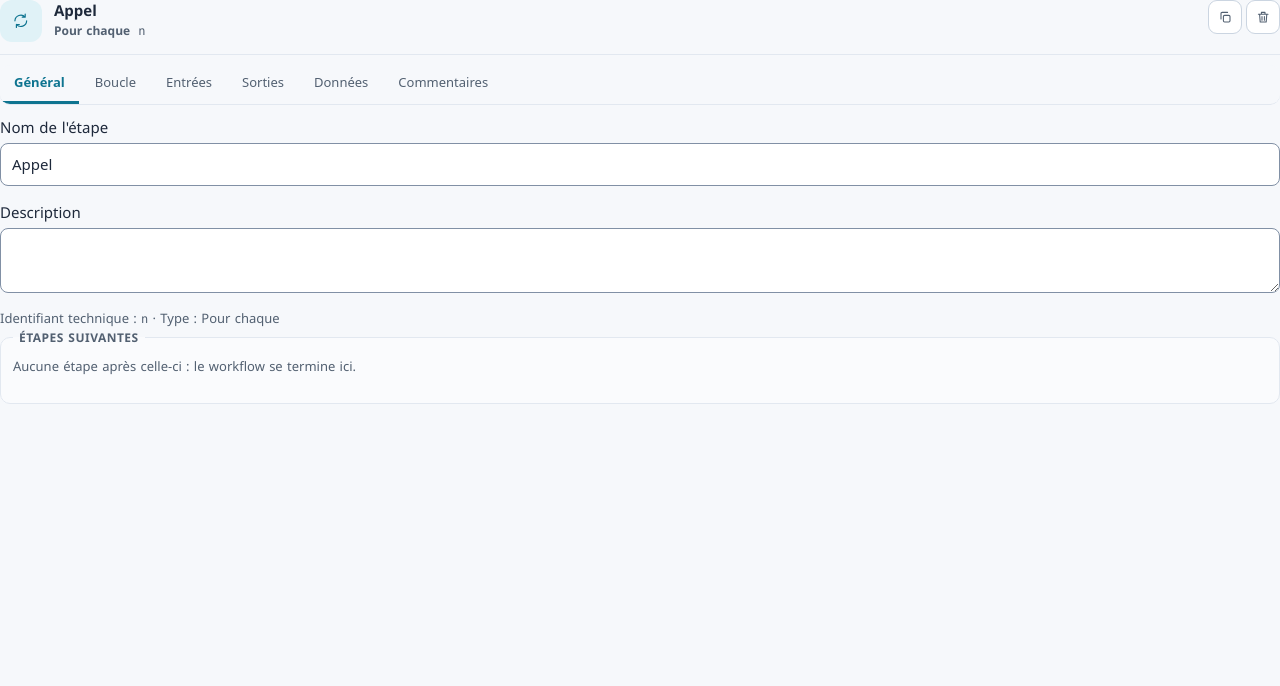
Test: version du workflow appelé — étape foreach › une version épinglée absente du catalogue est montrée telle quelle, avec une alerte
Click the tab "Boucle": (115, 84) [81, 65, 150, 104]
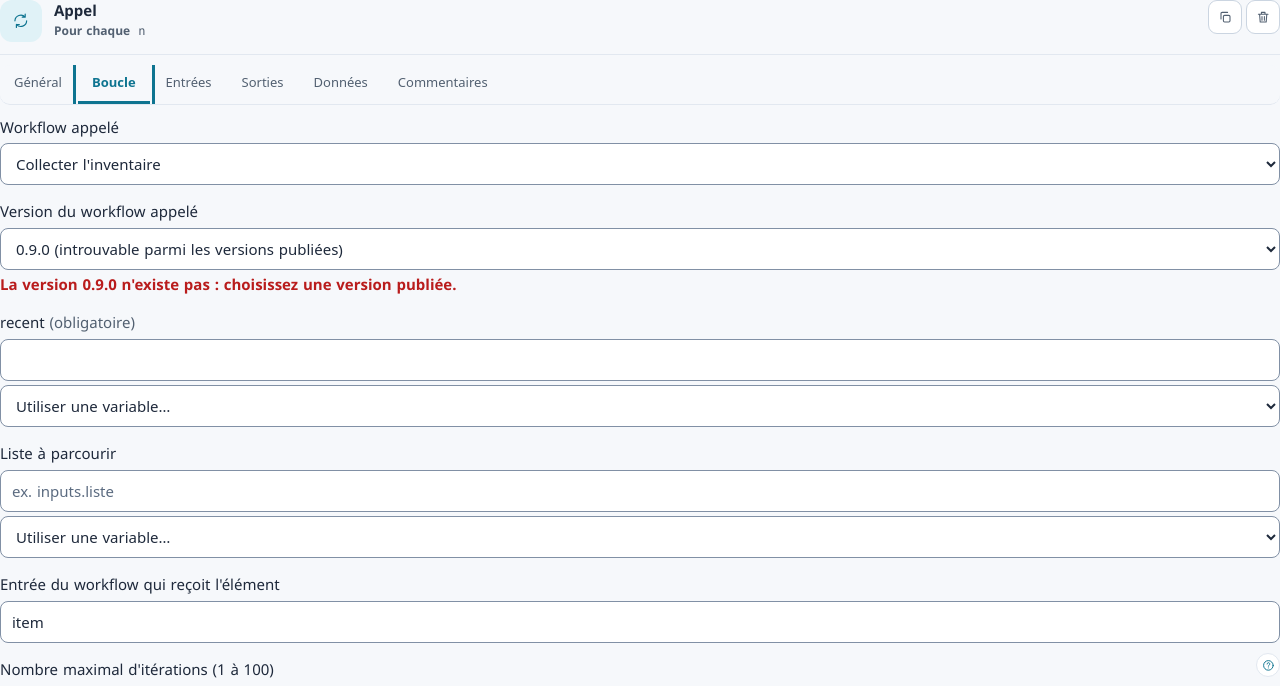
Check: the dropdown labelled "Version du workflow appelé" shows "0.9.0 (introuvable parmi les versions publiées)", box [0, 228, 1279, 270]
Check: the message shows "La version 0.9.0 n'existe pas", box [0, 274, 456, 294]
